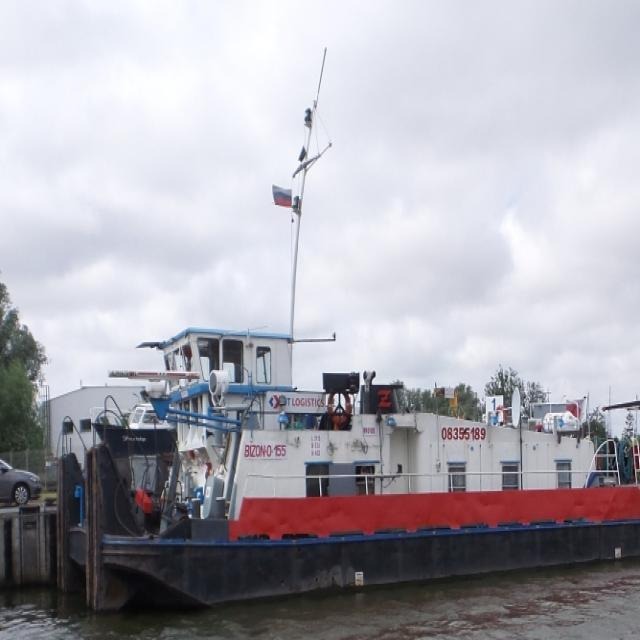tugboat: (47, 323, 640, 631)
